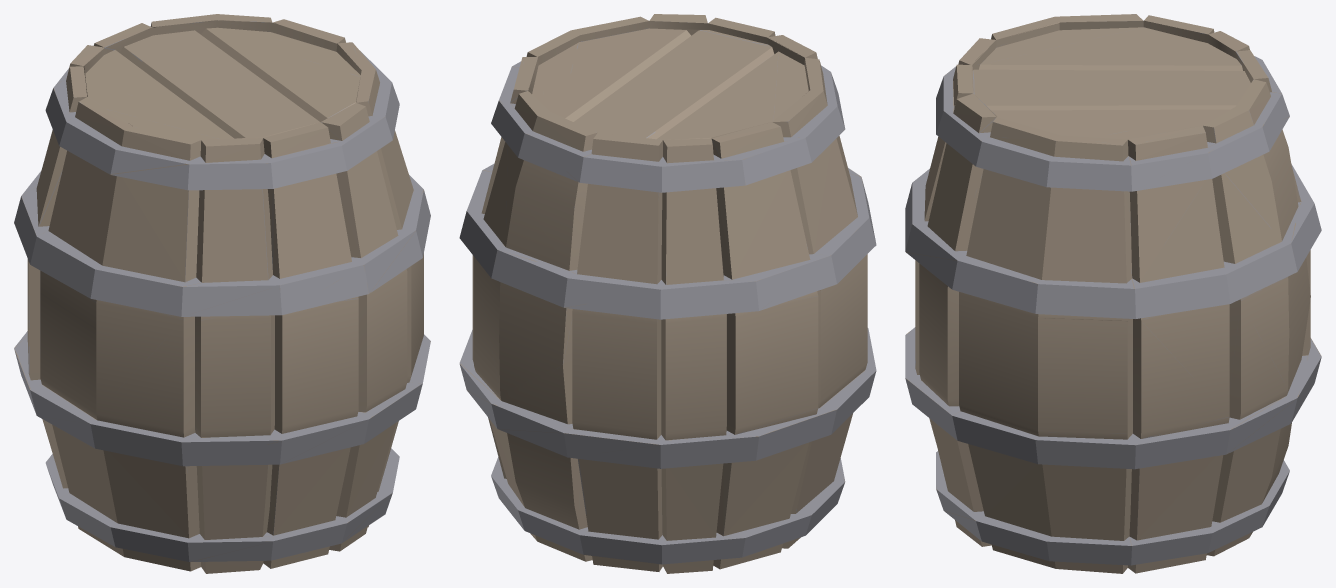
Rendered from barrel2.glb.
The picture shows the model from 3 angles, left to right: view 1: azimuth 30°, elevation 25°; view 2: azimuth 150°, elevation 25°; view 3: azimuth 270°, elevation 25°; orthographic projection.
Visible parts, largest first — view 1: Wood; view 2: Wood; view 3: Wood.
Part boxes in pixels (x1,y1,x2,y2): Wood: [14, 14, 430, 573]; Wood: [459, 14, 876, 573]; Wood: [905, 14, 1321, 573].
Bounding box in the file's own units: 0.8098 × 0.9152 × 0.8039.
1 material, 1 textured.
